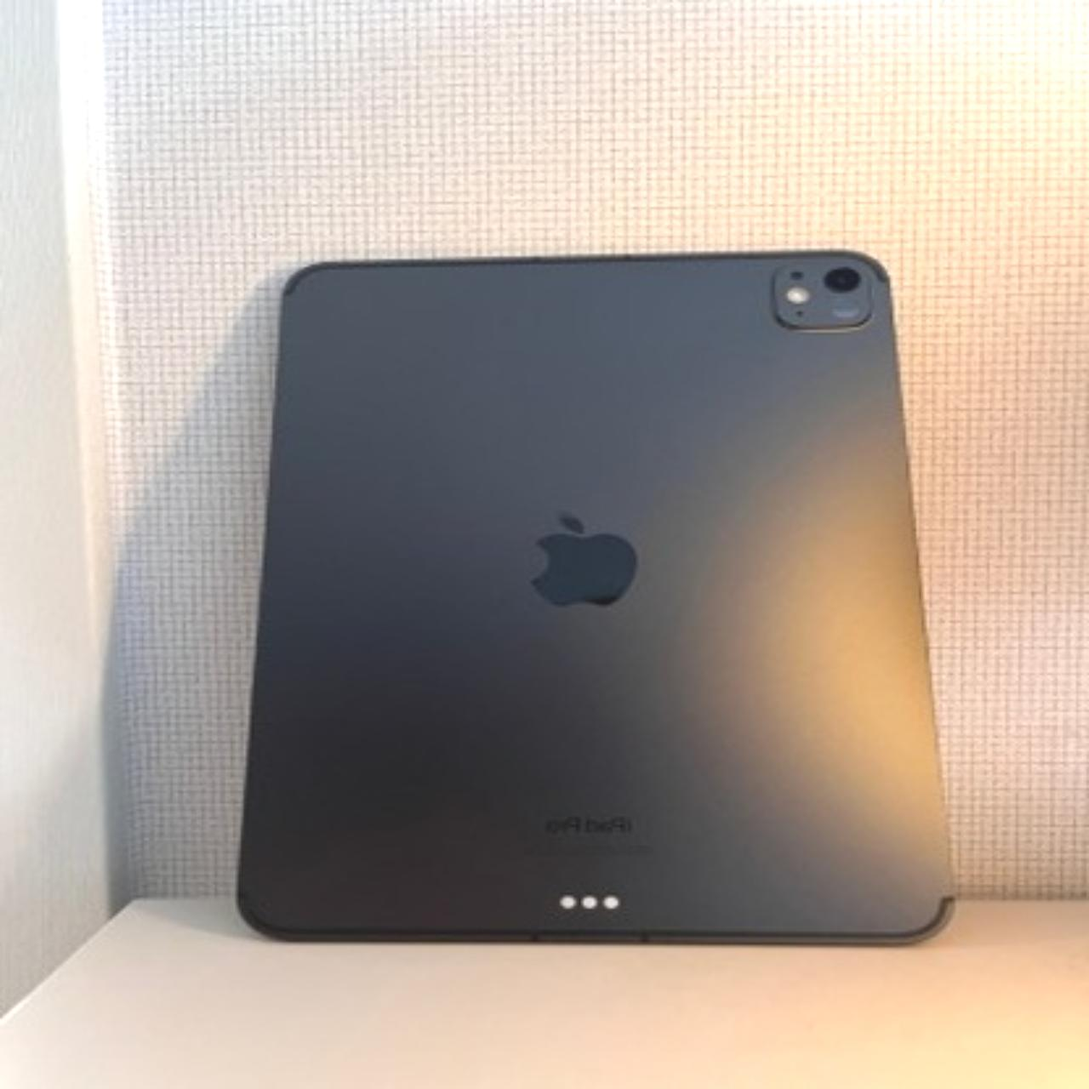Tablet_PC: (215, 239, 976, 947)
